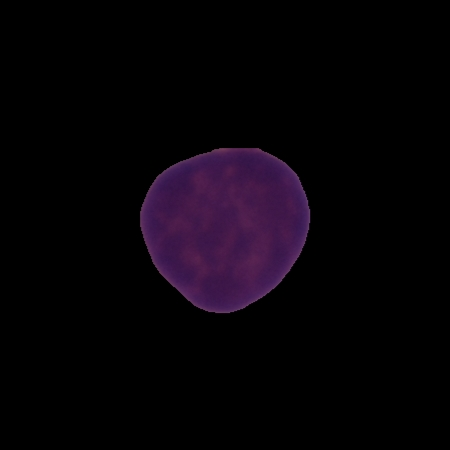HEM: (136, 144, 314, 316)
